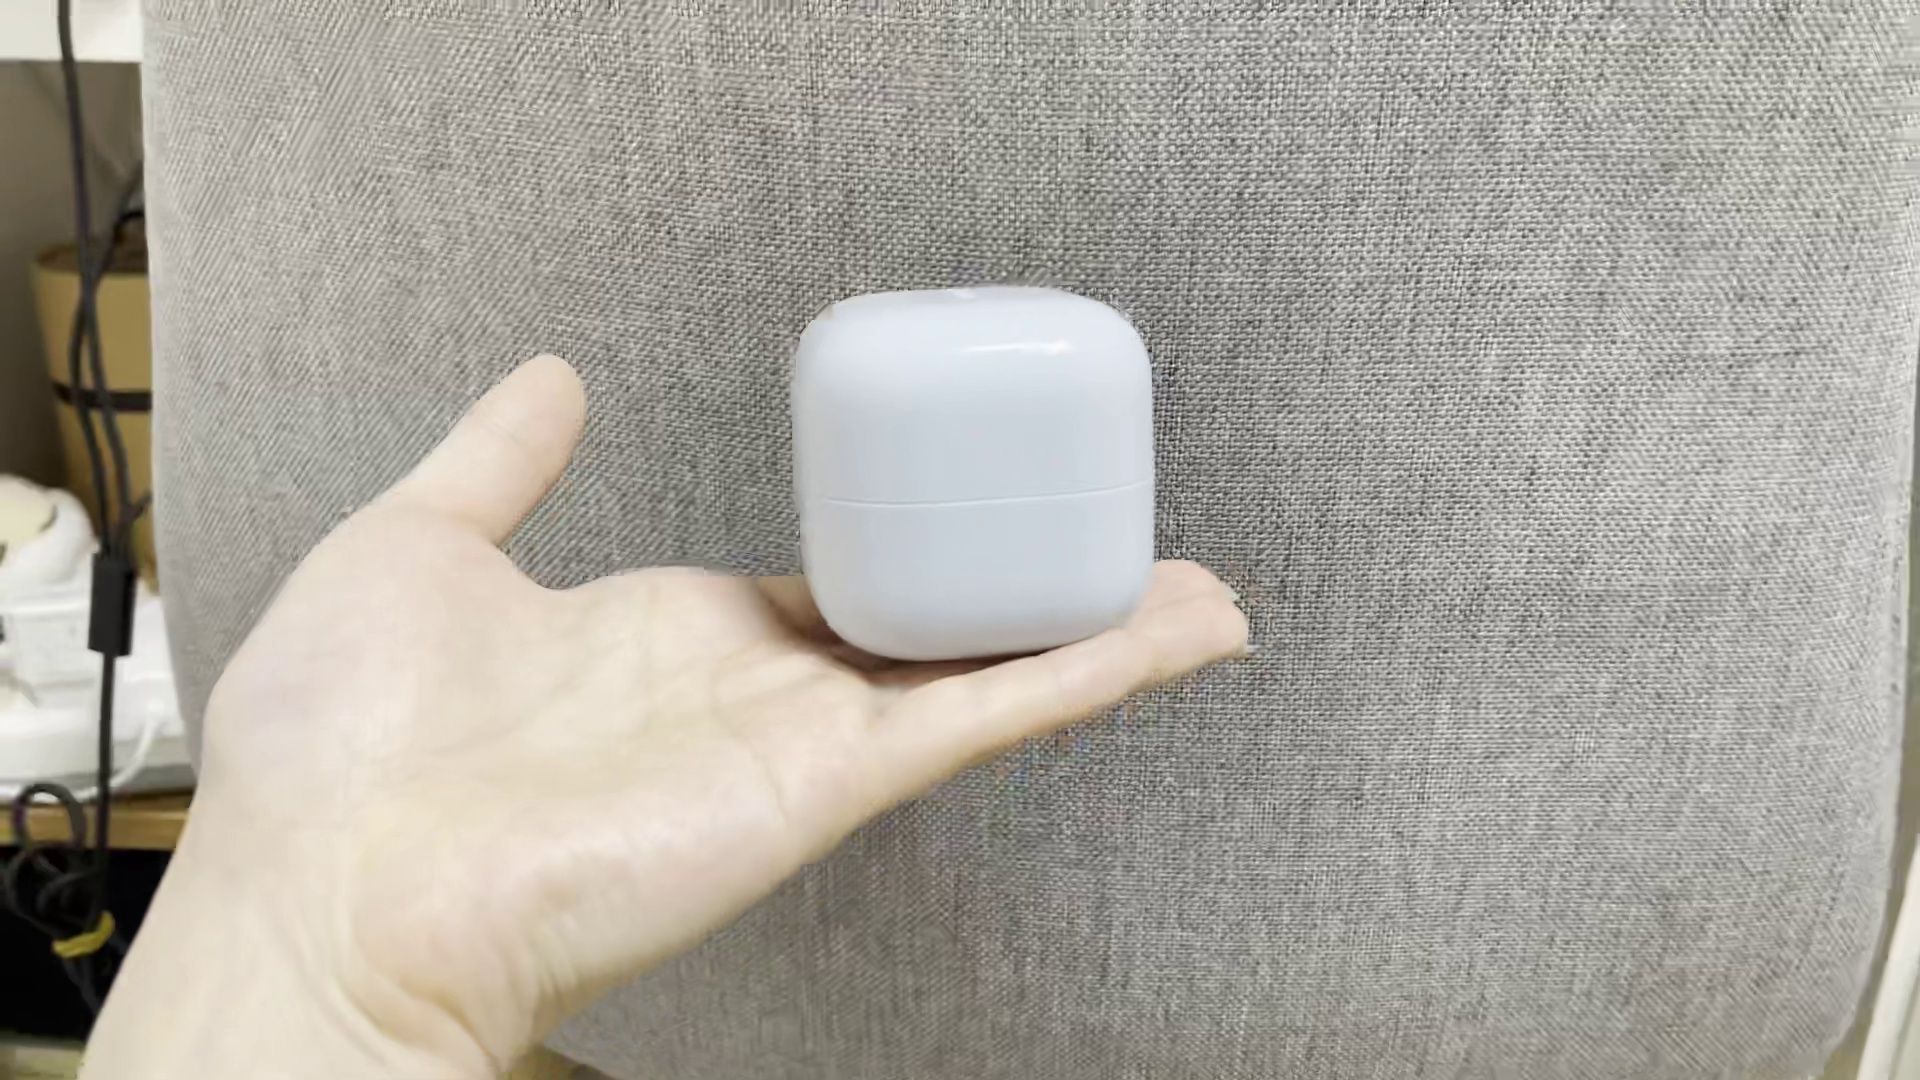cream: (796, 284, 1158, 655)
